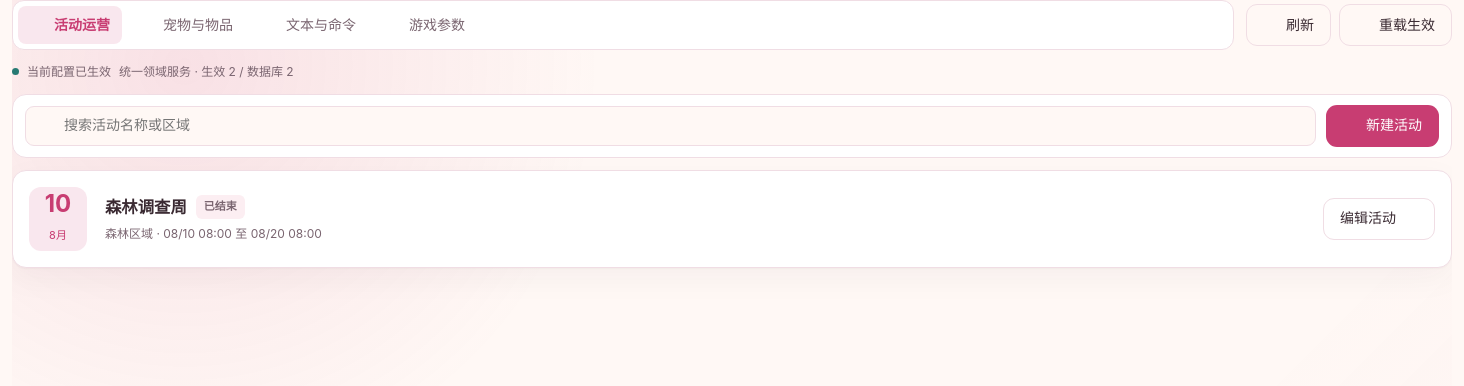
Test: ContentView 内容工作台 › 命令按中文分类展示且列表隐藏技术键
The image size is (1464, 386).
Click the button "文本与命令": {"x": 309, "y": 25} left=250, top=6, right=368, bottom=44
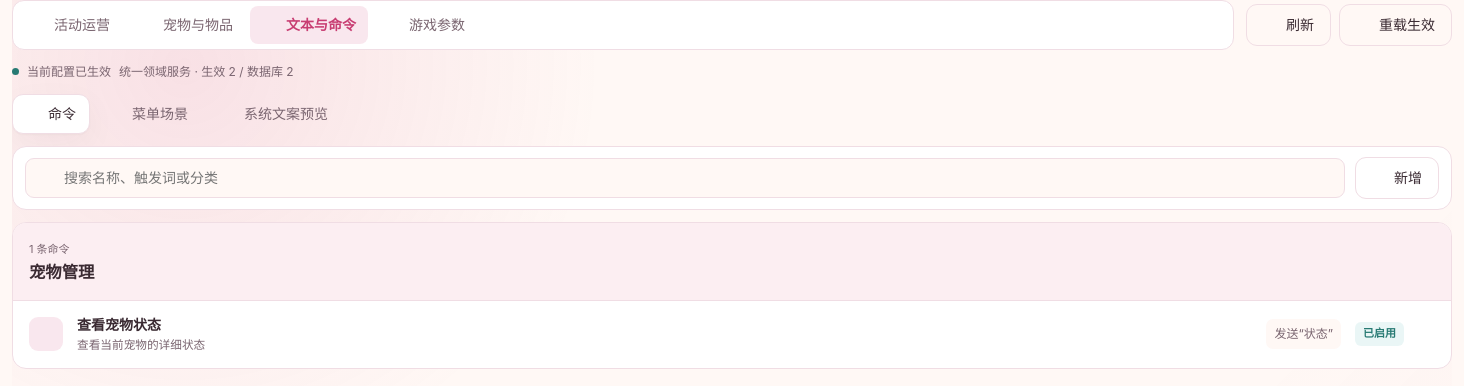
Now the text "宠物管理" is shown, box left=29, top=262, right=94, bottom=282
Now the text "查看宠物状态" is shown, box left=77, top=316, right=161, bottom=332
Now the text "查看当前宠物的详细状态" is shown, box left=77, top=338, right=205, bottom=352
